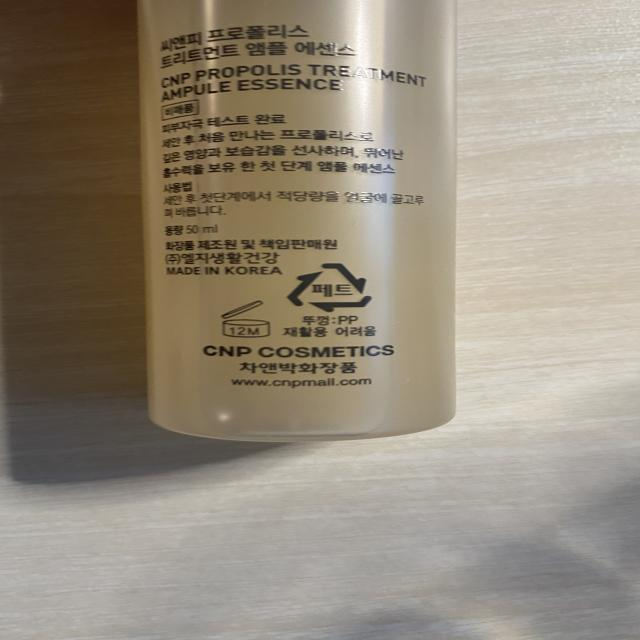PET: (283, 256, 382, 316)
